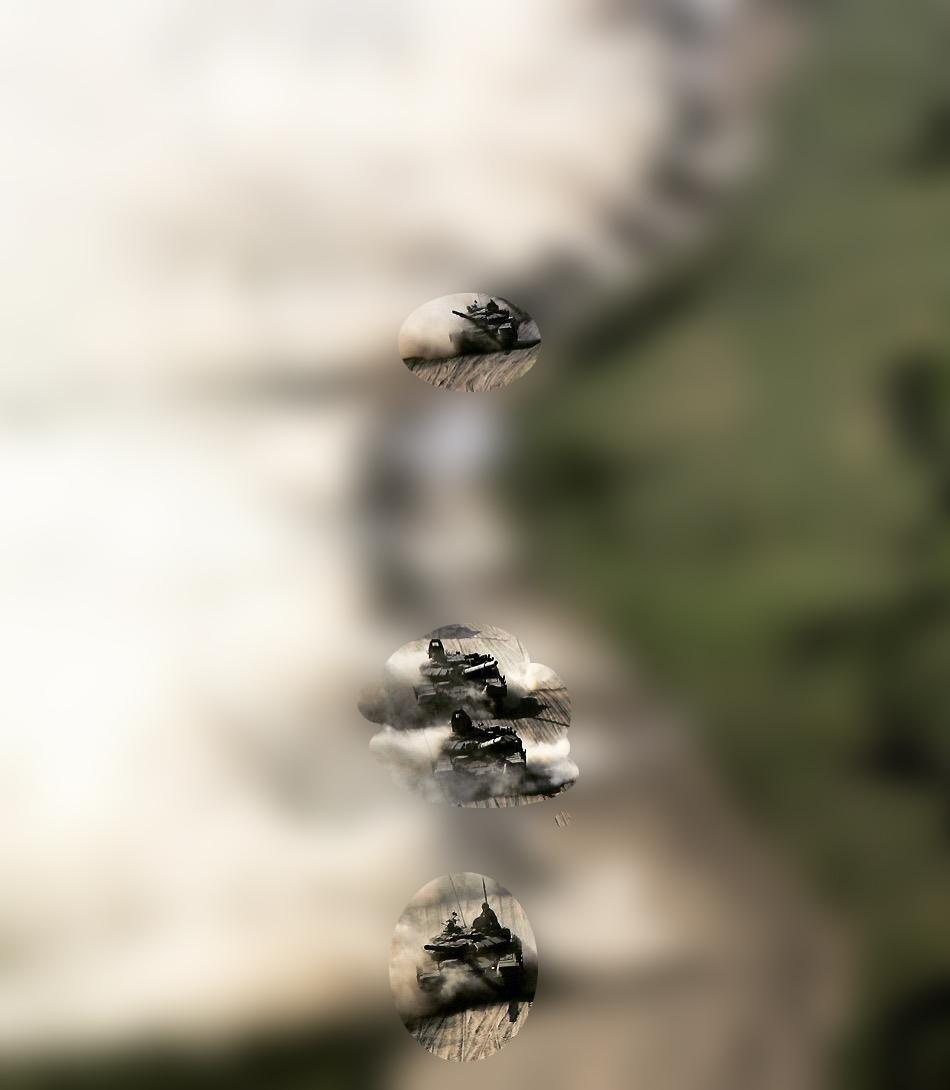tank: (413, 900, 532, 1010), (394, 632, 535, 715), (425, 717, 547, 812), (439, 292, 543, 372)
